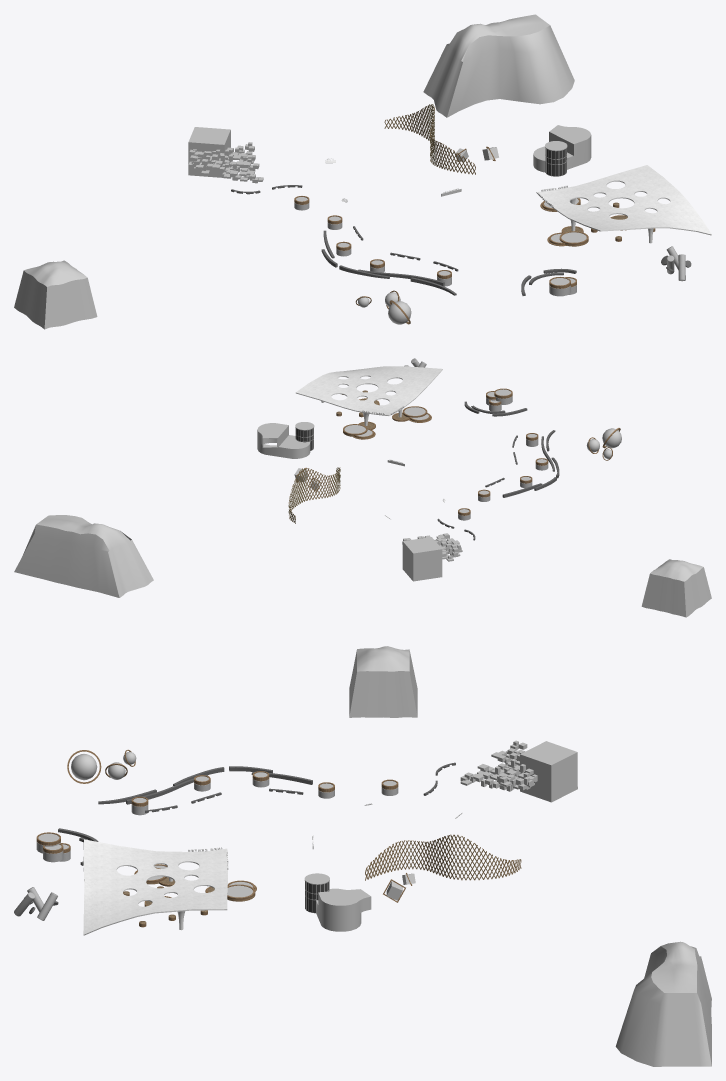
Rendered from SocialIsland_assetsjoined.fbx.
3 renders of one model, top to bottom at view 1: azimuth 30°, elevation 25°; view 2: azimuth 150°, elevation 25°; view 3: azimuth 270°, elevation 25°, orthographic. The views are drawn at different scales.
Visible parts, largest first — view 1: OU_AR_Info_D; view 2: OU_AR_Info_D; view 3: OU_AR_Info_D.
Part boxes in pixels (bbox=[...]): OU_AR_Info_D: bbox=[14, 14, 711, 329]; OU_AR_Info_D: bbox=[14, 358, 711, 617]; OU_AR_Info_D: bbox=[14, 646, 711, 1066].
Bounding box in the file's own units: 21000 × 2897 × 17023.
